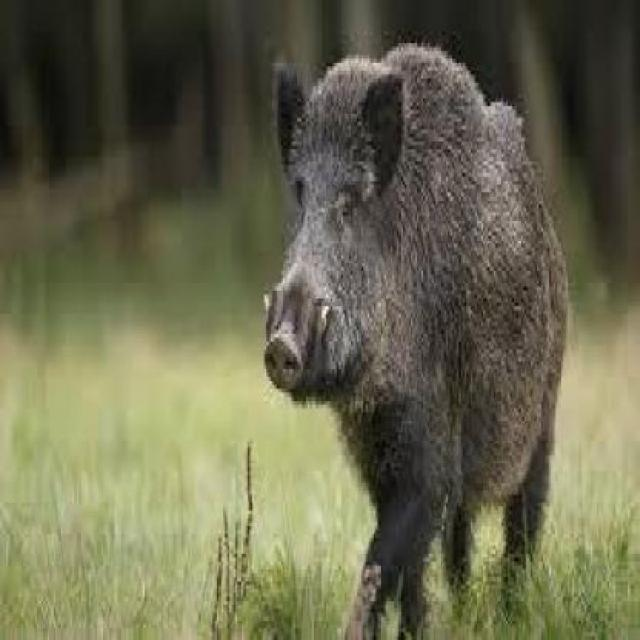wildboar: (262, 37, 569, 640)
